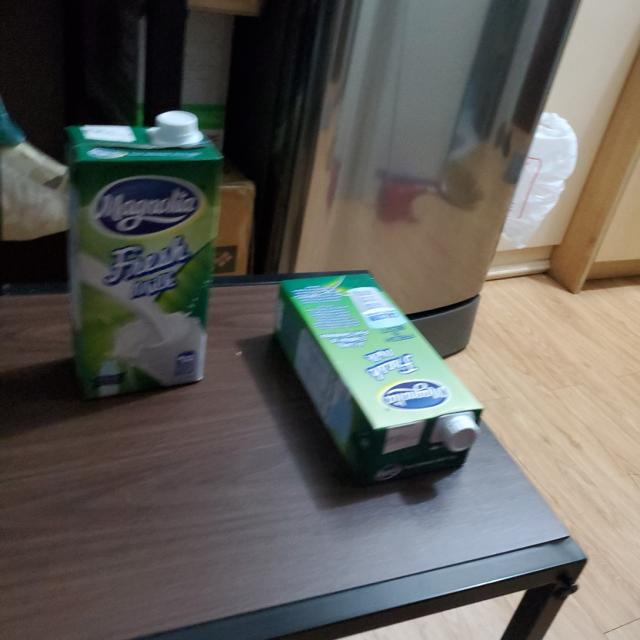milk: (65, 114, 226, 405), (279, 270, 484, 489)
